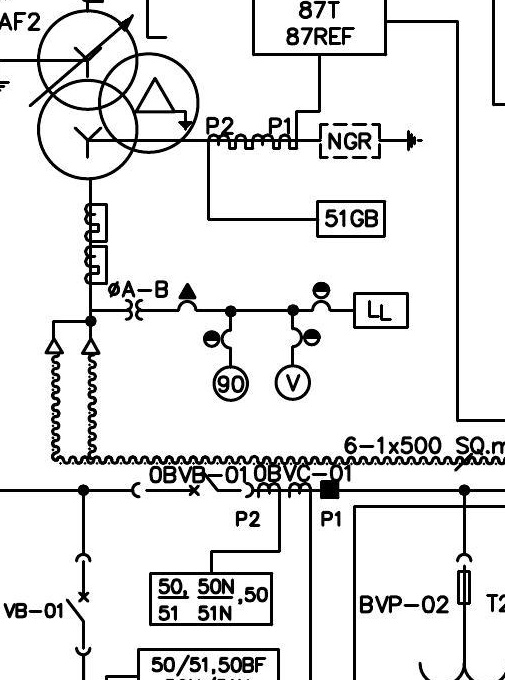11522_tx_ynyn0d1: (36, 8, 201, 182)
22_breaker: (130, 472, 255, 499), (65, 553, 92, 657)
LL: (352, 292, 410, 329)
NGR_future: (318, 123, 424, 160)
terminator_double: (44, 319, 101, 355)
v_m: (273, 363, 312, 402)
